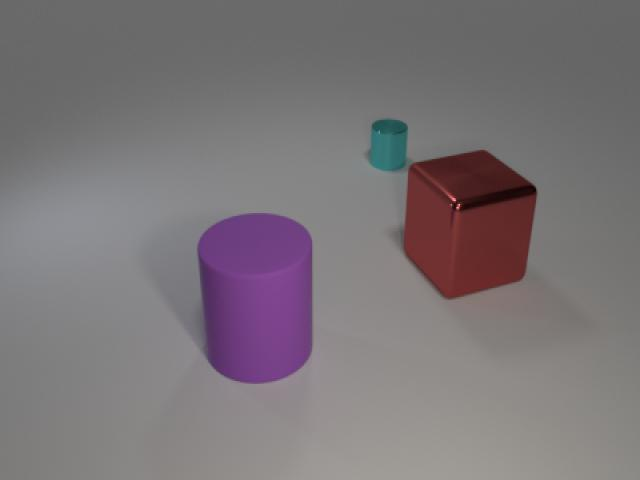cylinder: (195, 213, 315, 386), (364, 118, 411, 174)
